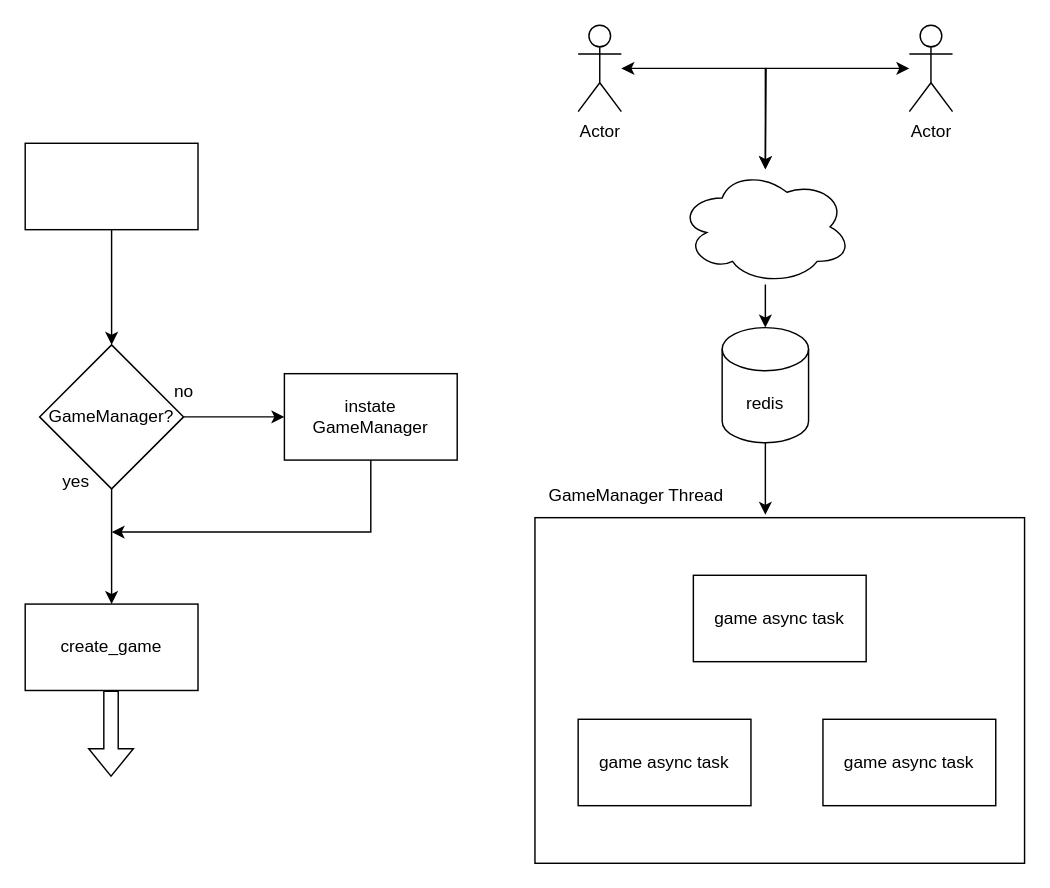
Image size: 1050x888. Some labels were removed from this diagram. The shapes that lost their labels are listed below. From the top down, each one's centre as x and y in pixels, then its label:
At (x=111, y=186): "/create".
At (x=765, y=226): "wss".
